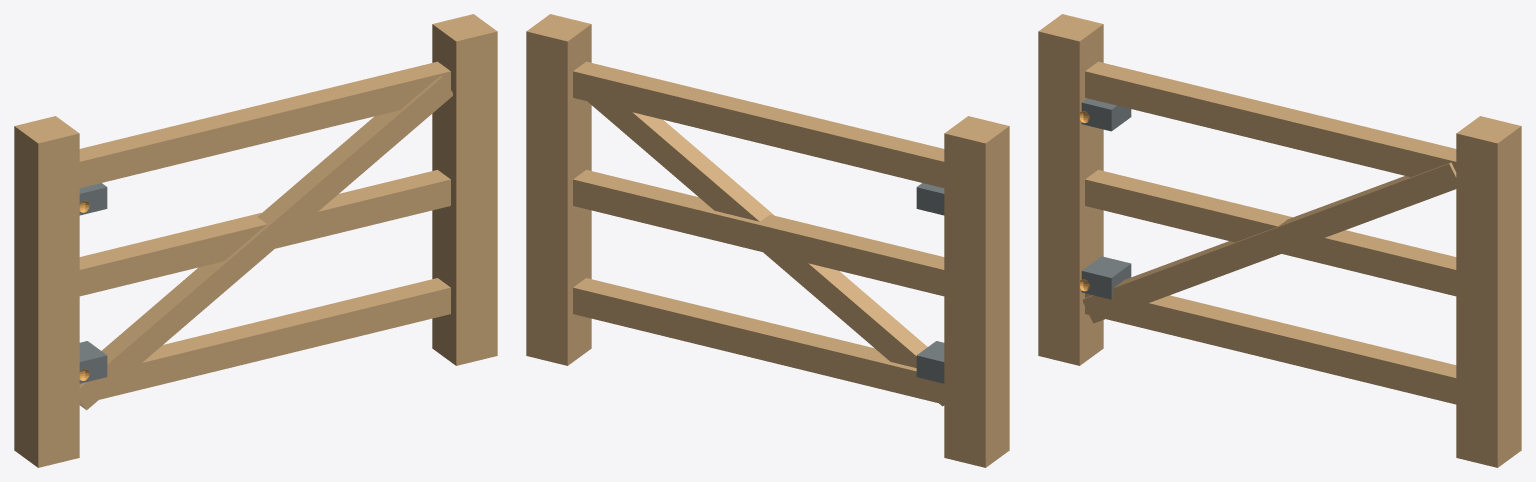
The model's file is harvest-hearth-cross-braced-field-gate__53.glb.
The picture shows the model from 3 angles, left to right: view 1: azimuth 30°, elevation 25°; view 2: azimuth 150°, elevation 25°; view 3: azimuth 330°, elevation 25°; orthographic projection.
Parts seen in each view (by area): view 1: harvest-hearth-field-gate; view 2: harvest-hearth-field-gate; view 3: harvest-hearth-field-gate.
Boxes of the visible parts, x1,y1,x2,y2 form: harvest-hearth-field-gate: [14, 14, 497, 467]; harvest-hearth-field-gate: [526, 14, 1009, 467]; harvest-hearth-field-gate: [1038, 14, 1521, 467].
Bounding box in the file's own units: 2 × 1.35 × 0.193.
